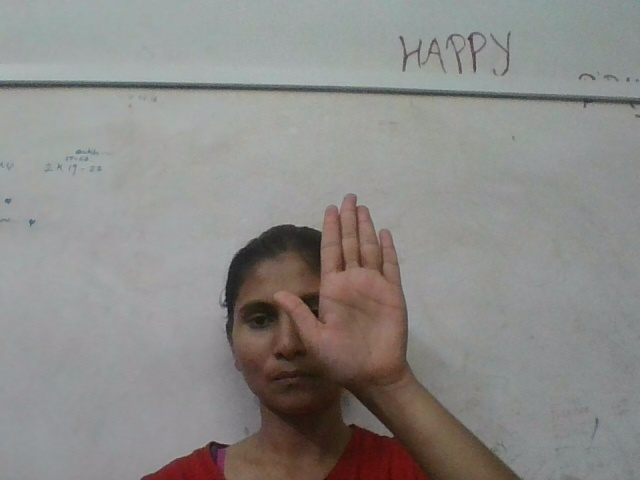Hello: (273, 188, 415, 390)
